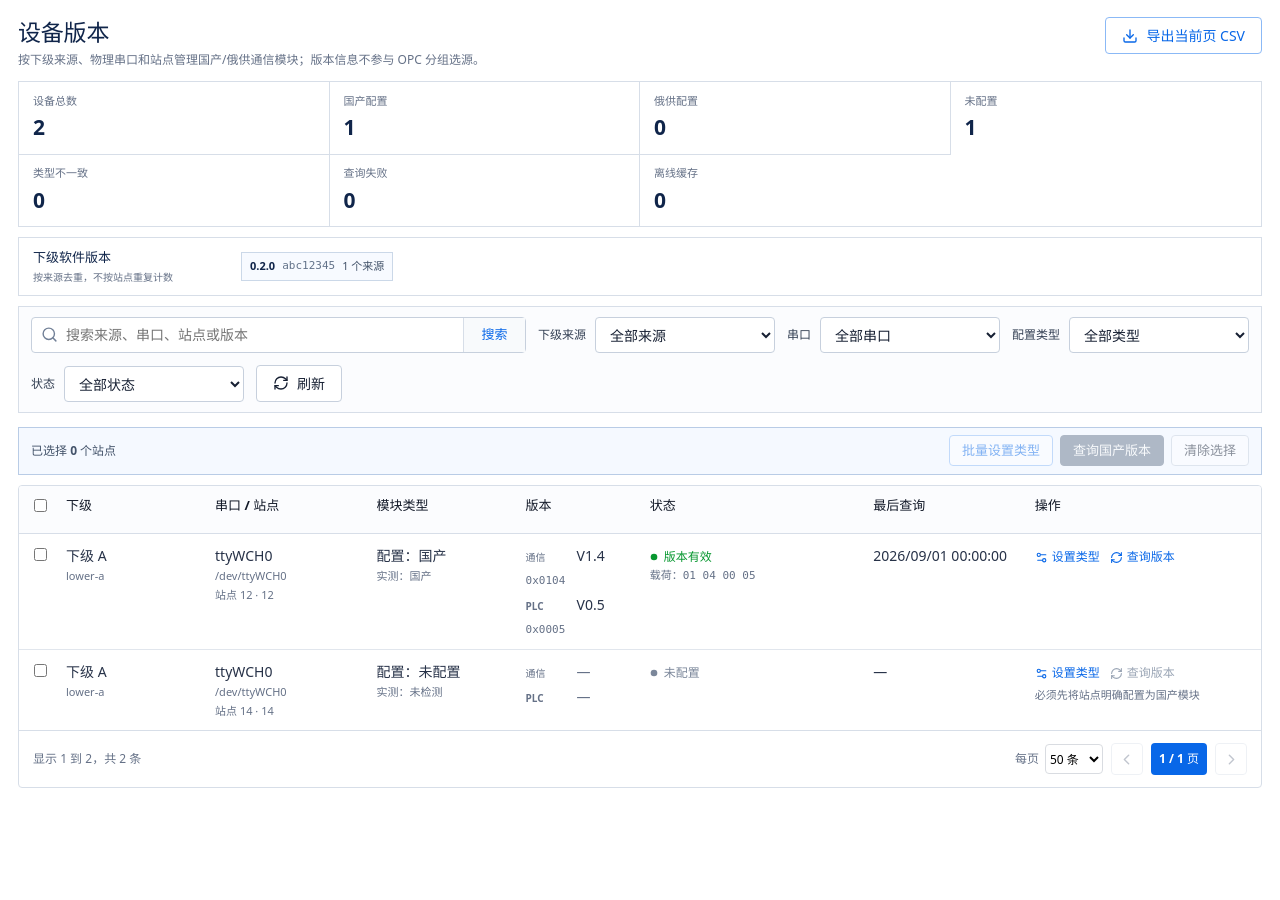
device version inventory › does not rebase and repeat a confirmed station write after a revision conflict
This screenshot has width=1280, height=900.
Click the 2nd button "设置类型".
click(1067, 673)  # box [1035,661,1100,685]
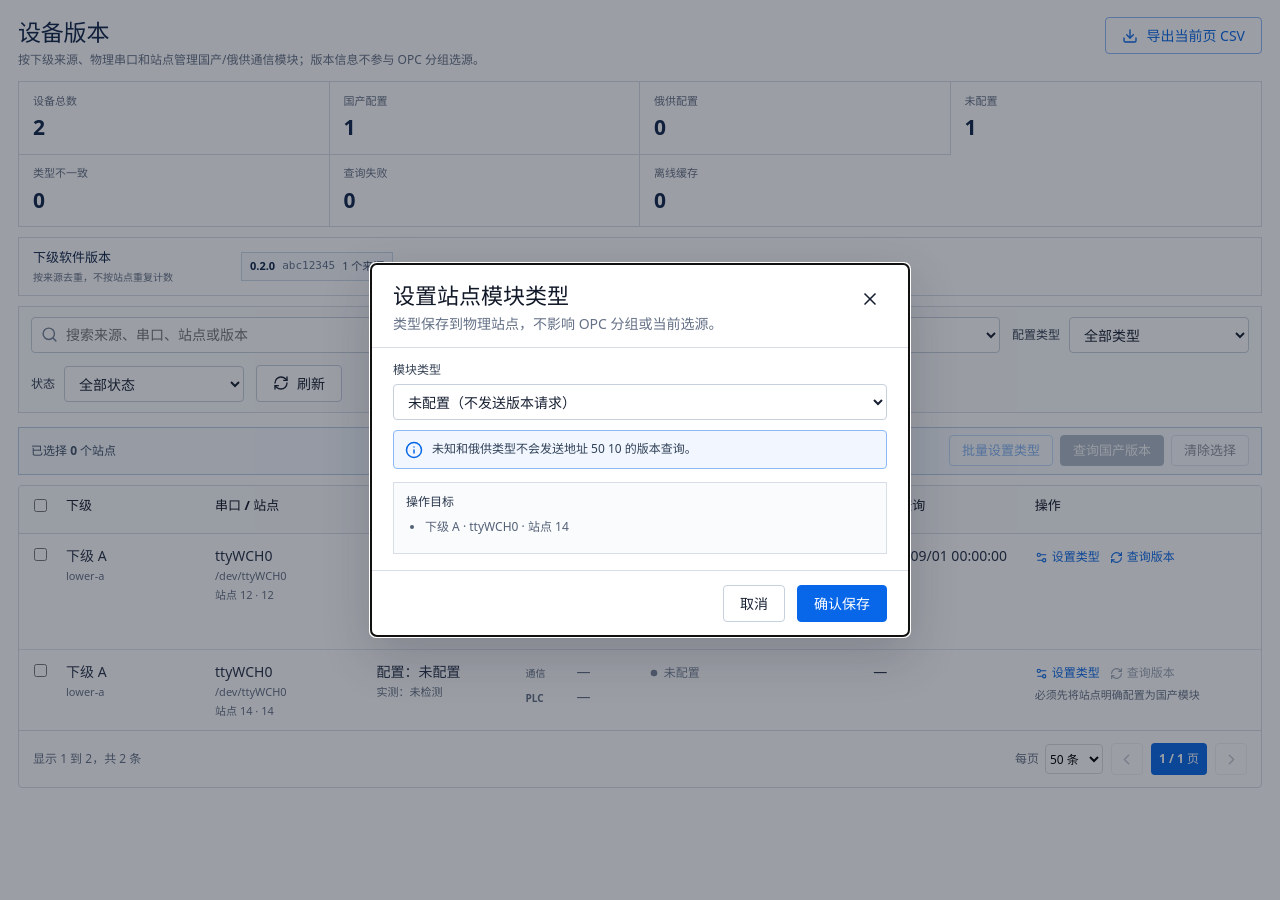
Select "国产自研模块" in the dropdown labelled "模块类型" at (640, 402), box [393,384,887,420]
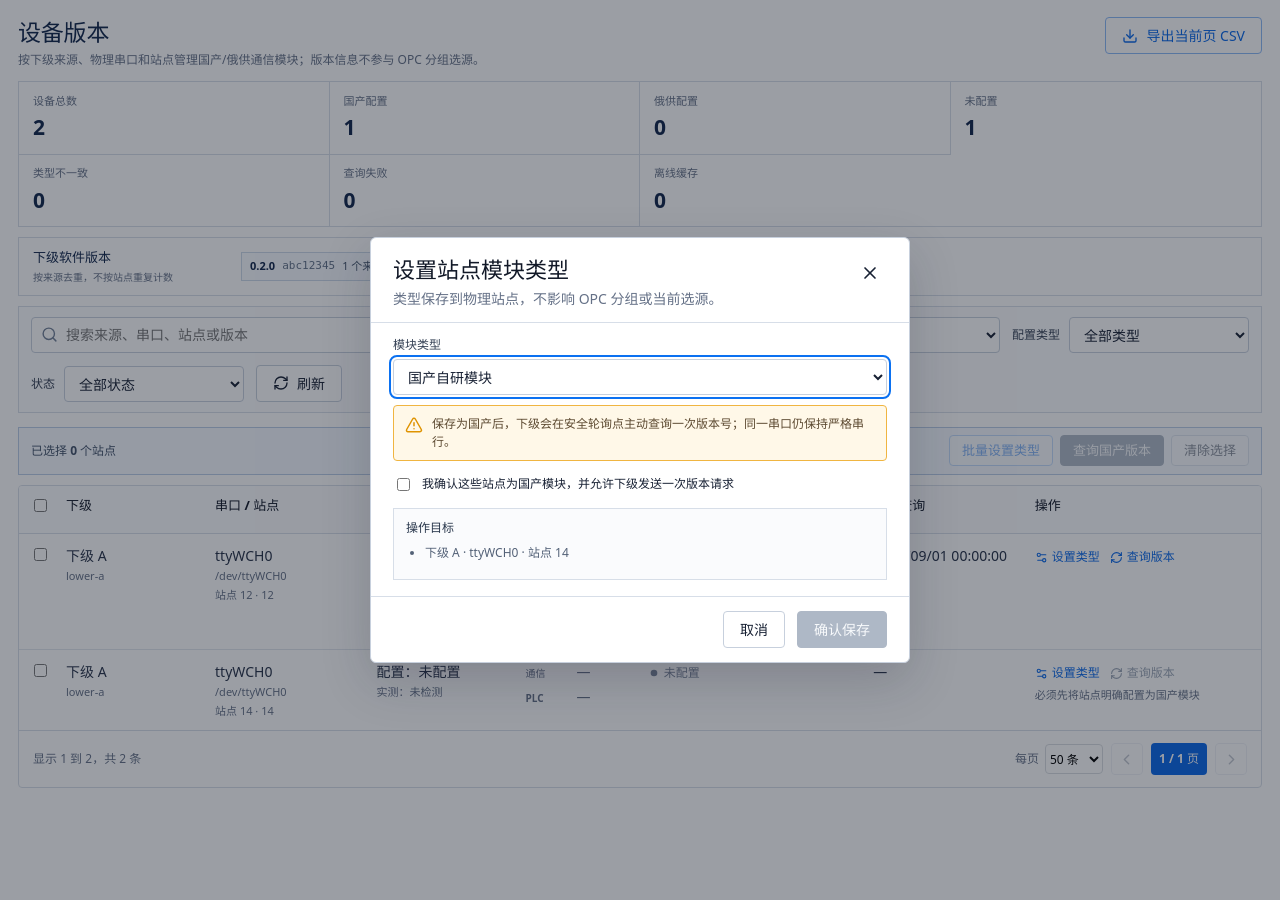
Click the text "我确认这些站点为国产模块，并允许下级发送一次版本请求".
click(566, 483)  # box [397,475,734,492]
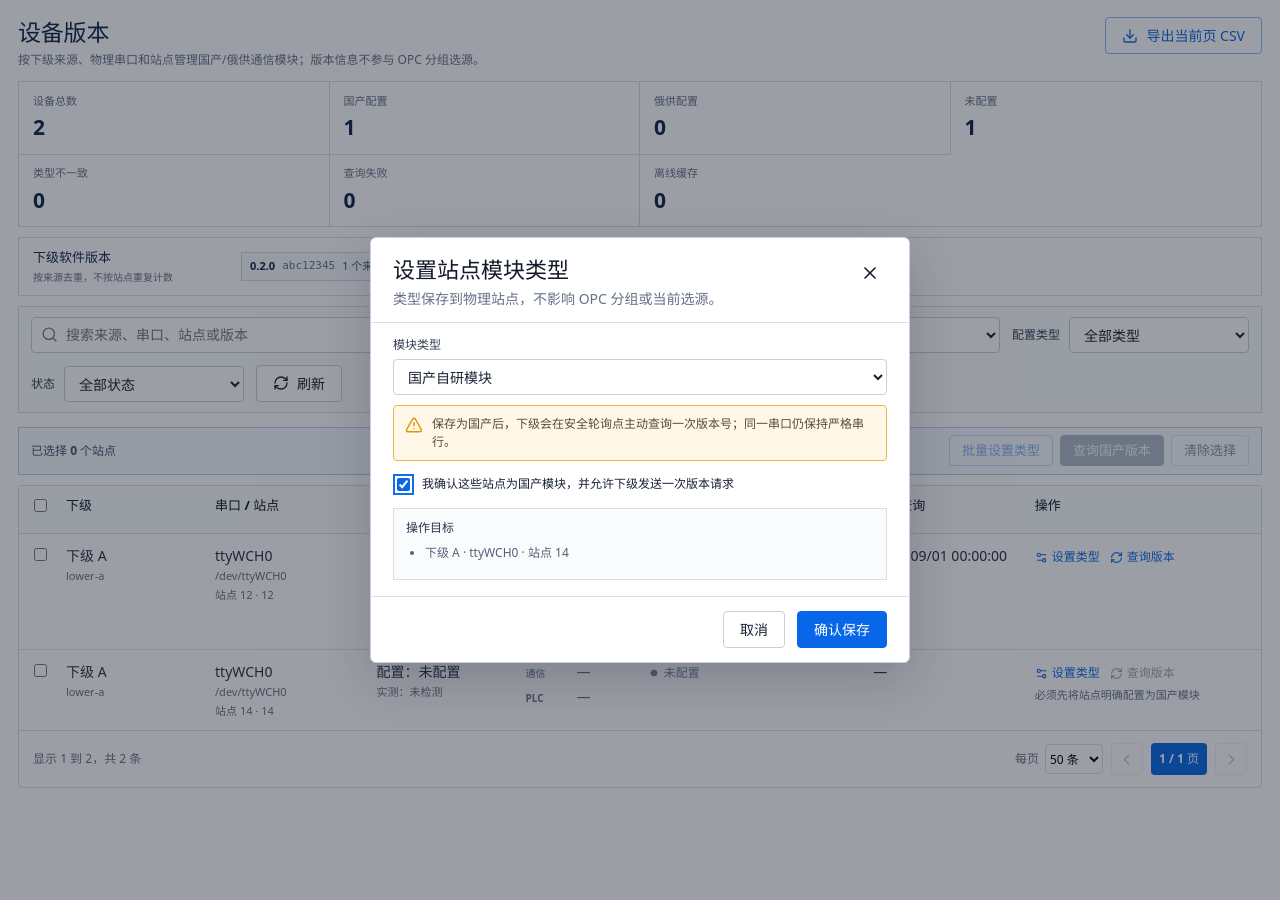
Click the button "确认保存".
click(842, 629)  # box [797,611,887,648]
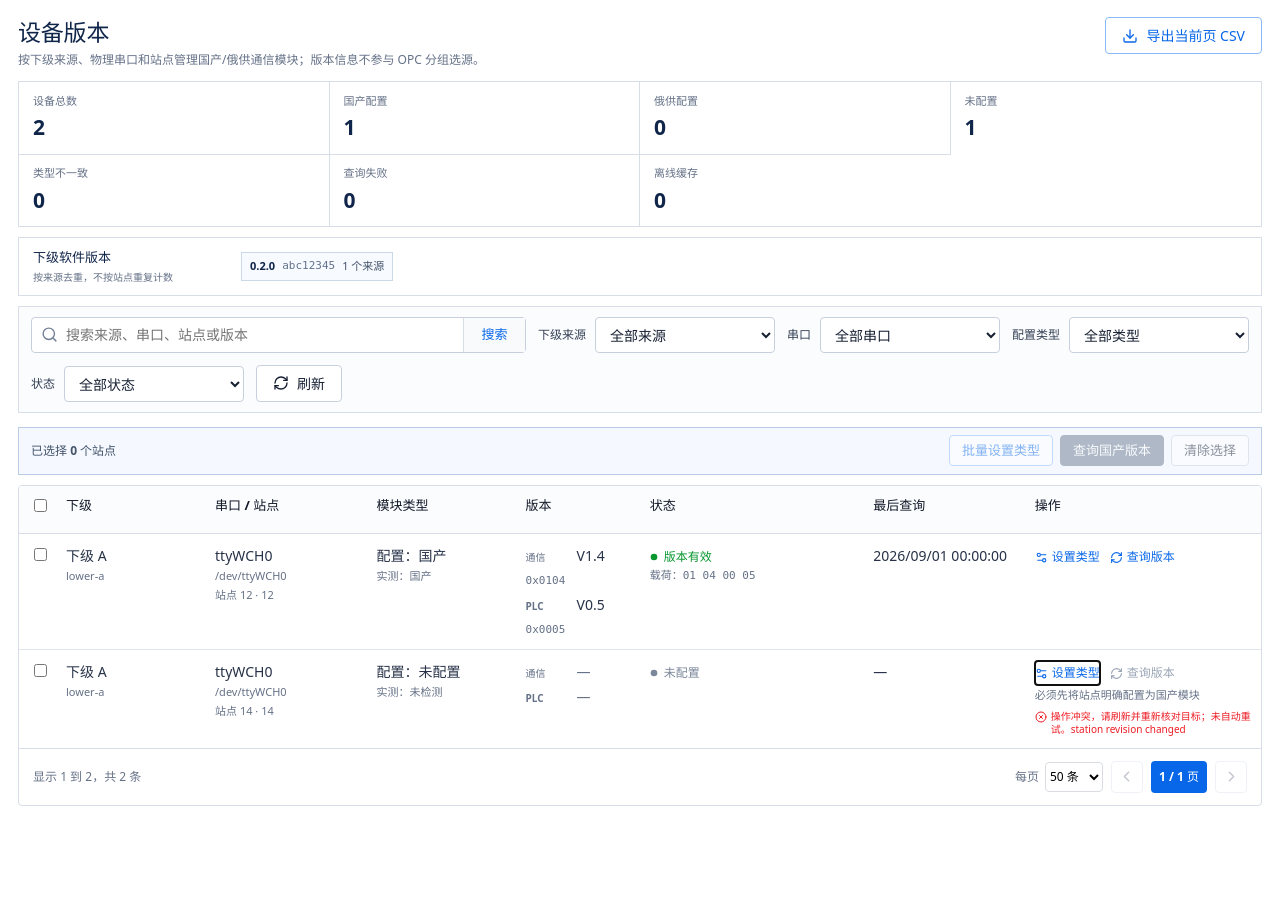
Expected: the text "操作冲突，请刷新并重新核对目标；未自动重试。station revision changed" is shown, [1035,710,1252,736]
